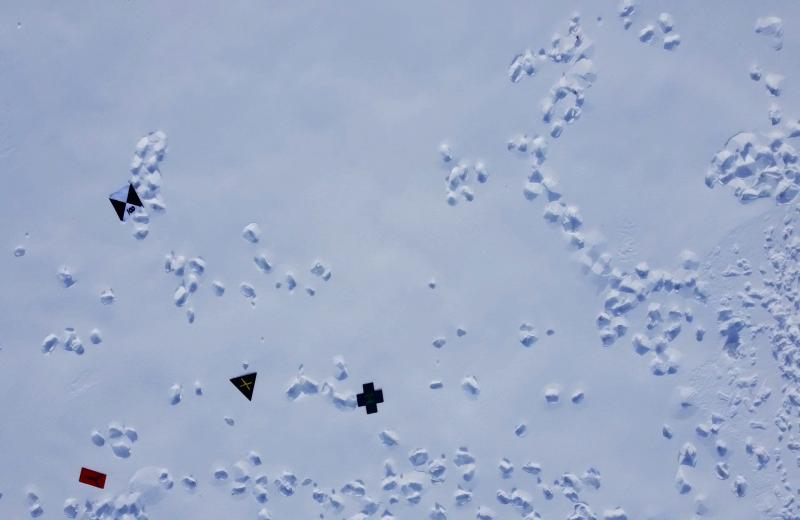Cross: (350, 381, 387, 418)
Rectangle: (77, 463, 109, 493)
Triangle: (225, 368, 261, 404)
